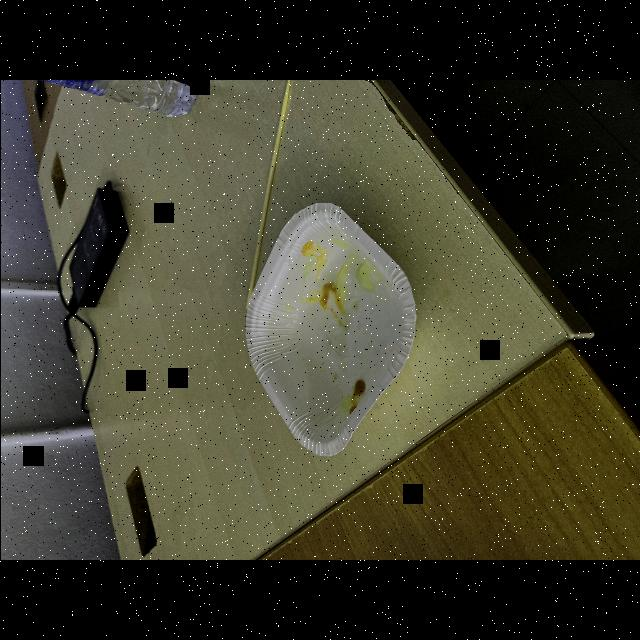cardboard_bowl: (247, 197, 426, 458)
stick: (244, 82, 296, 304)
